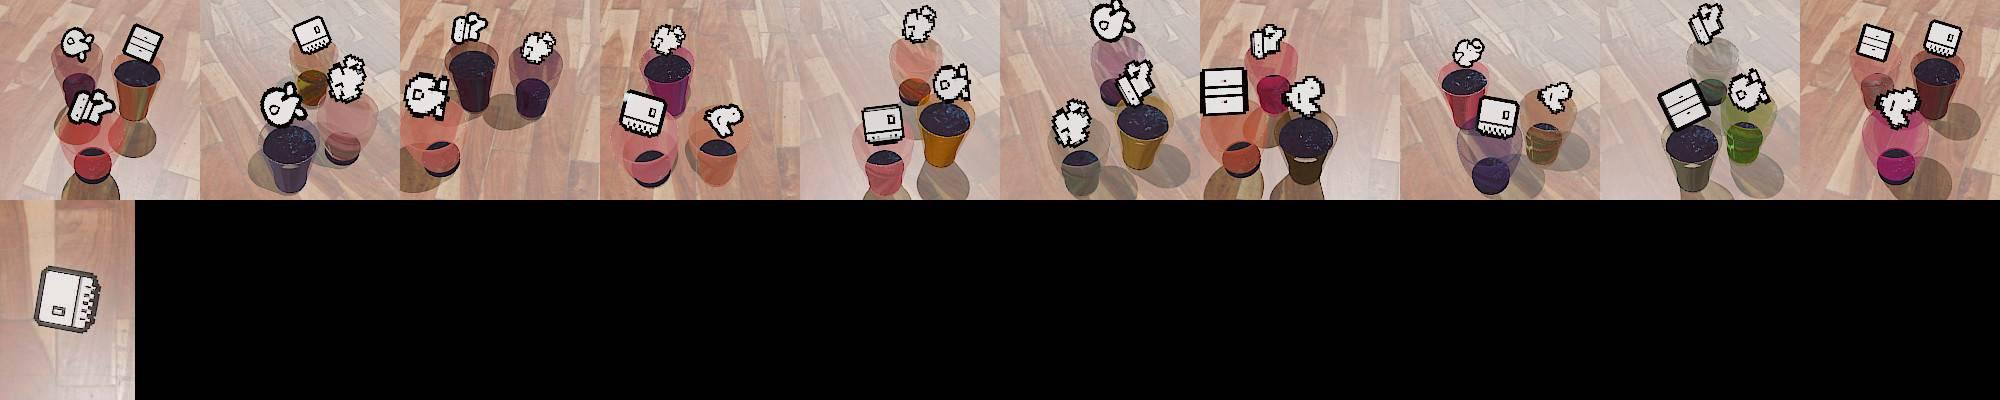icon: (33, 265, 102, 335), (1657, 77, 1712, 133), (403, 69, 452, 120), (1201, 66, 1247, 117), (619, 89, 667, 137), (260, 81, 307, 129), (326, 53, 369, 104), (1474, 95, 1520, 141), (1049, 98, 1091, 148), (1728, 67, 1772, 113), (1116, 57, 1156, 107), (1089, 0, 1134, 43), (1876, 86, 1921, 129), (861, 102, 905, 144), (1283, 74, 1325, 117), (122, 22, 164, 65), (69, 88, 117, 125), (292, 15, 333, 58), (929, 61, 971, 102), (1855, 22, 1895, 63), (1688, 1, 1725, 45), (1923, 20, 1963, 60), (1248, 22, 1287, 59), (703, 102, 742, 139), (901, 5, 937, 44), (518, 29, 556, 65), (1538, 78, 1573, 115), (451, 11, 489, 45), (61, 26, 96, 62), (650, 22, 686, 56), (1451, 36, 1484, 69)
